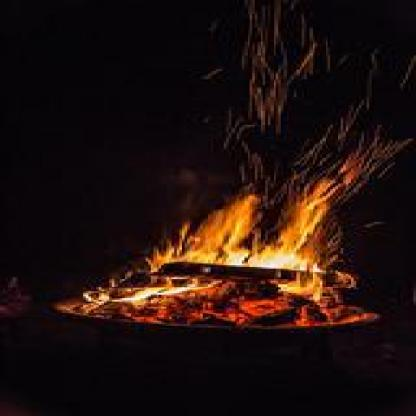fire: (70, 178, 363, 316)
